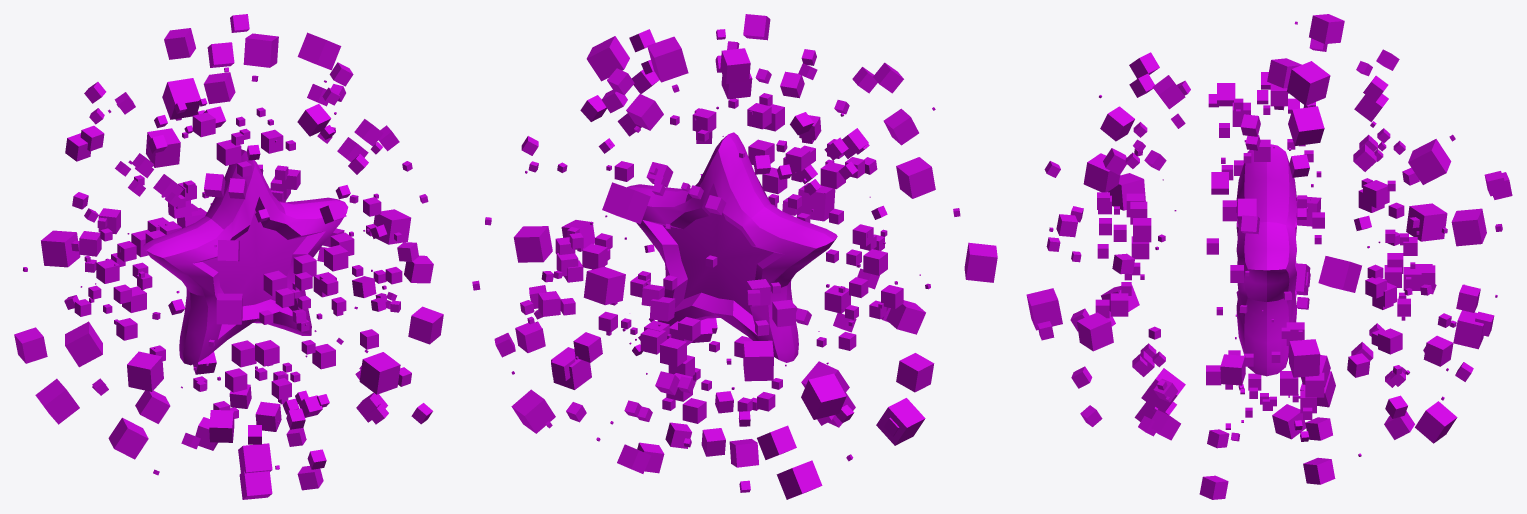
File: Lumina_Collectable.fbx
3 renders of one model, left to right at view 1: azimuth 30°, elevation 25°; view 2: azimuth 150°, elevation 25°; view 3: azimuth 270°, elevation 25°, orthographic. The views are drawn at different scales.
Visible parts, largest first — view 1: ScatterOuter, ScatterInner, Star; view 2: ScatterOuter, ScatterInner, Star; view 3: ScatterOuter, ScatterInner, Star.
Boxes of the visible parts, x1,y1,x2,y2 form: ScatterOuter: (14,14,443,499); ScatterInner: (74,98,402,422); Star: (143,149,348,365); ScatterOuter: (472,14,997,499); ScatterInner: (538,68,903,423); Star: (627,132,837,362); ScatterOuter: (1026,14,1512,499); ScatterInner: (1095,72,1435,429); Star: (1236,144,1296,376).
Size of the model in its own units: 449 by 481 by 477.
